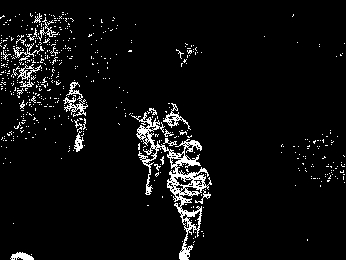person: (169, 140, 212, 260), (136, 108, 163, 196), (160, 101, 189, 161), (65, 80, 87, 153)
